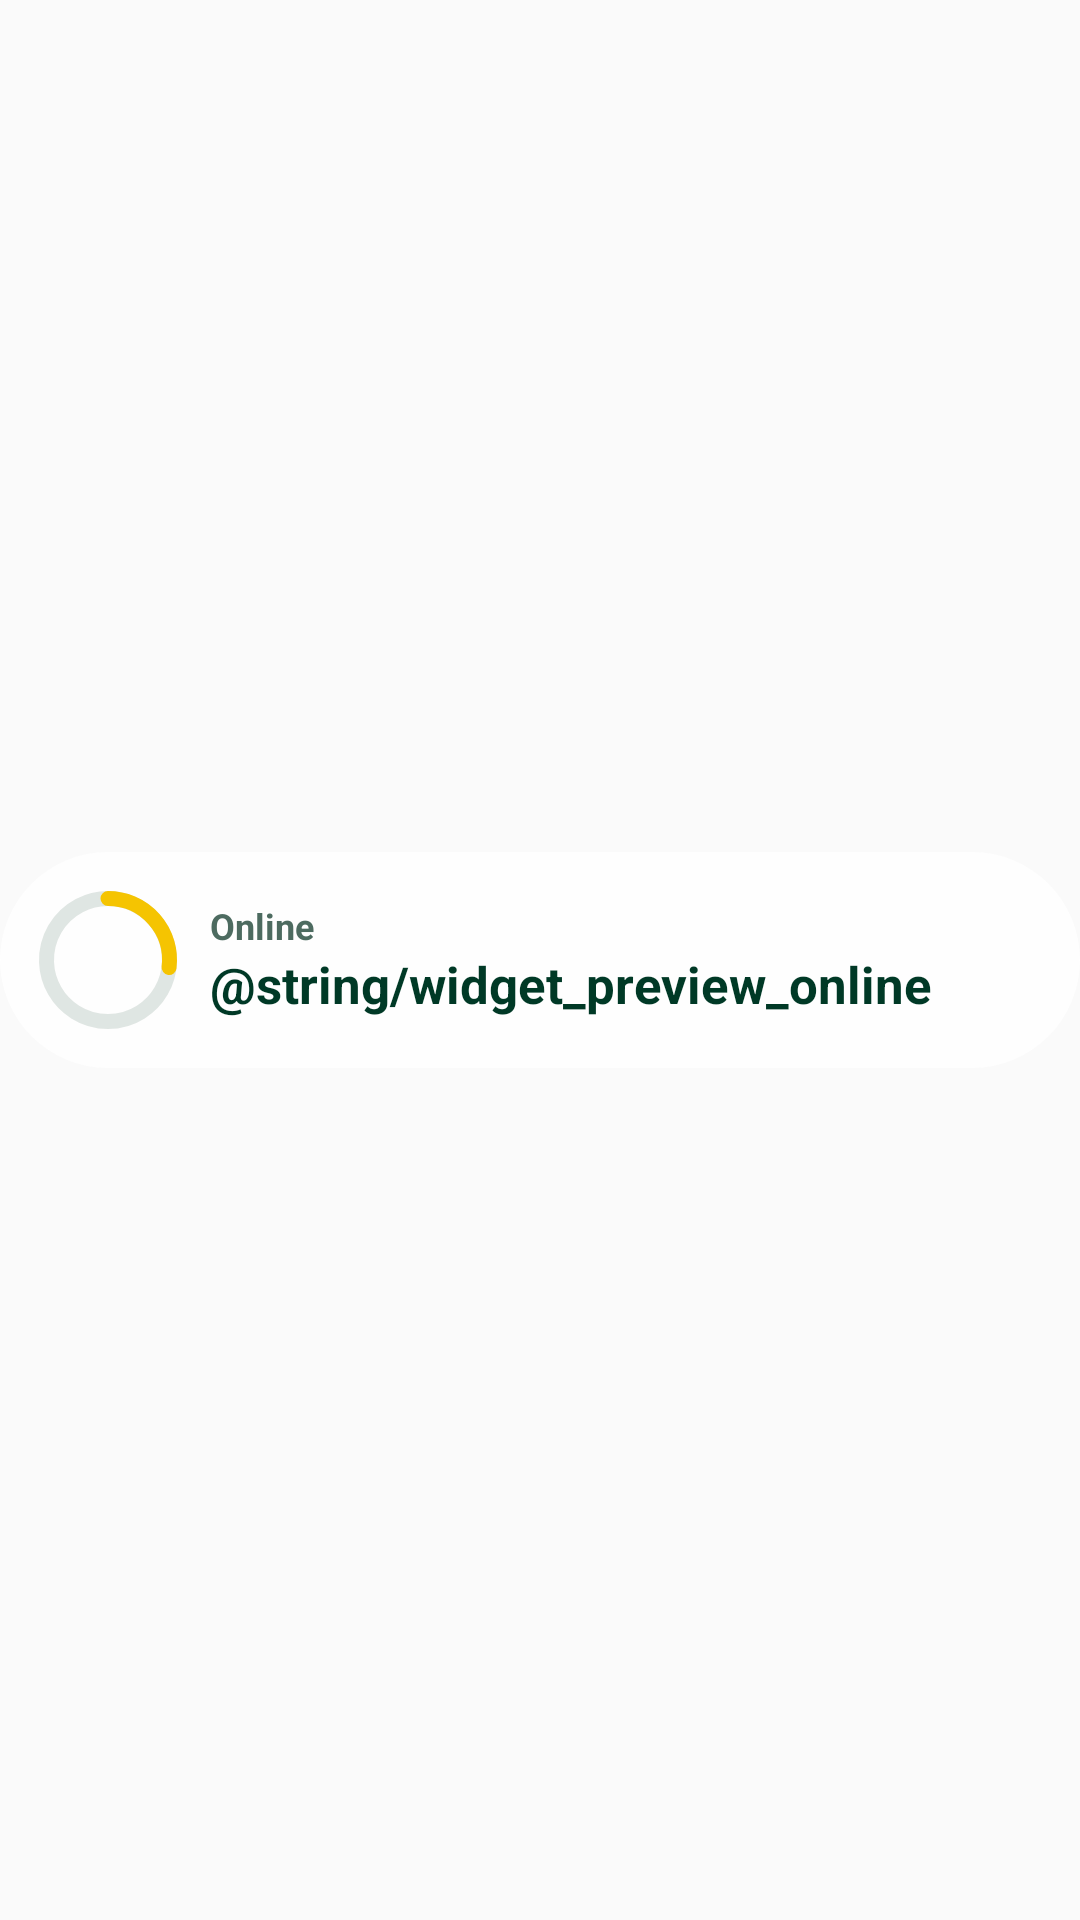

Icons on this 1080 × 1920 Android screen, each with its box as (x1, y1, x2, y2):
widget ring: (39, 891, 177, 1029)
